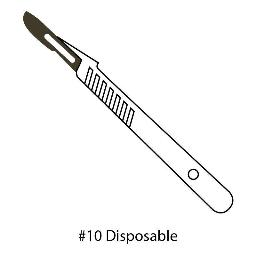scalpel: (22, 11, 234, 215)
